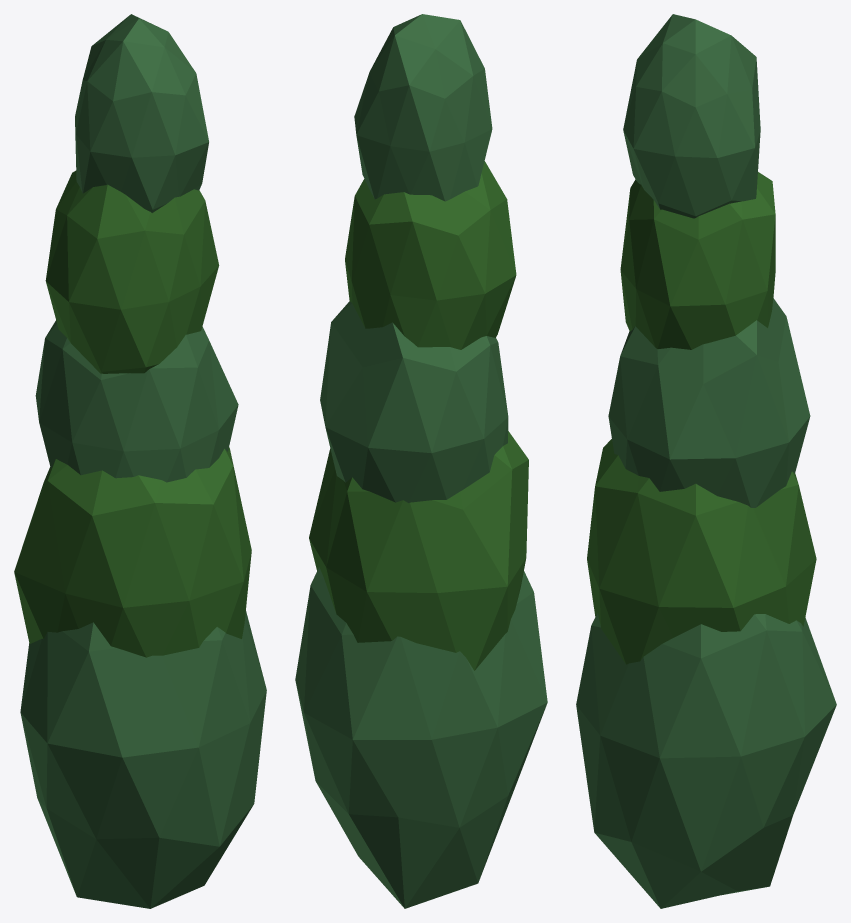
The model's file is HS_LP_Tree_Cypress_01.fbx.
The picture shows the model from 3 angles, left to right: view 1: azimuth 30°, elevation 25°; view 2: azimuth 150°, elevation 25°; view 3: azimuth 270°, elevation 25°; orthographic projection.
Parts seen in each view (by area): view 1: HS_LP_Tree_Cypress_01; view 2: HS_LP_Tree_Cypress_01; view 3: HS_LP_Tree_Cypress_01.
Part boxes in pixels (x1,y1,x2,y2): HS_LP_Tree_Cypress_01: (14,14,266,908); HS_LP_Tree_Cypress_01: (295,14,547,908); HS_LP_Tree_Cypress_01: (576,14,836,908).
Size of the model in its own units: 147 by 564 by 152.
